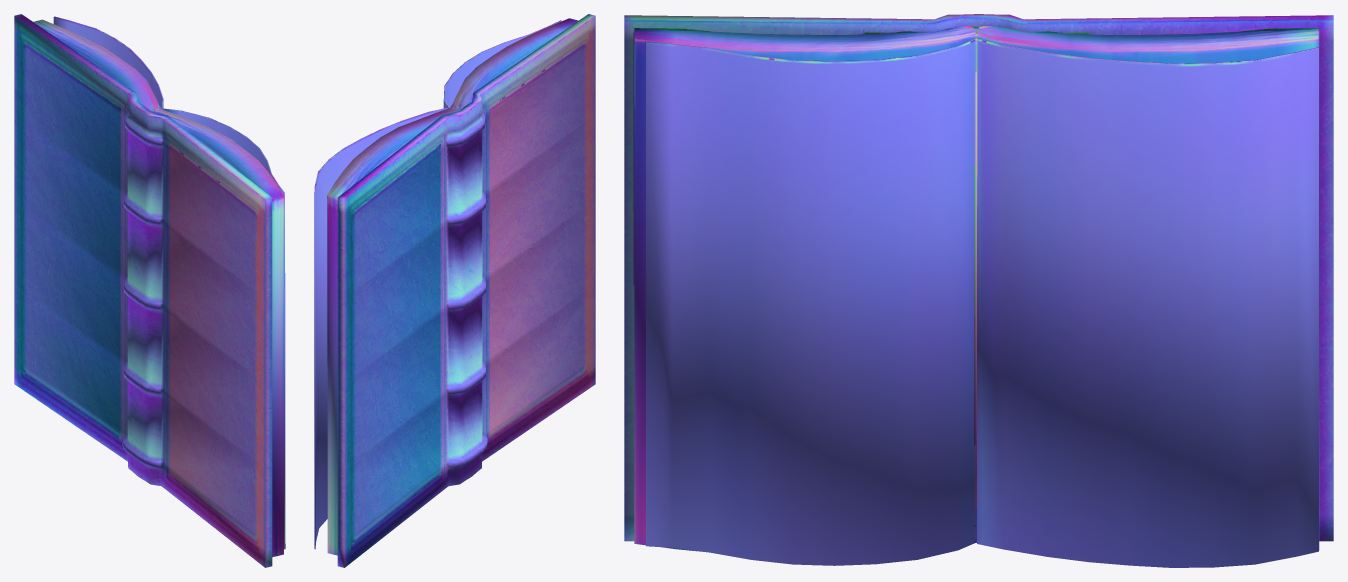
Rendered from OpenBook.fbx.
3 views of the same model, side by side, from view 1: azimuth 30°, elevation 25°; view 2: azimuth 150°, elevation 25°; view 3: azimuth 270°, elevation 25° (orthographic). The views are drawn at different scales.
Visible parts, largest first — view 1: BookOpenedCoverLowPoly; view 2: BookOpenedCoverLowPoly; view 3: BookOpenedCoverLowPoly.
Part boxes in pixels (x1,y1,x2,y2): BookOpenedCoverLowPoly: (14,14,285,567); BookOpenedCoverLowPoly: (314,14,595,567); BookOpenedCoverLowPoly: (624,14,1333,567).
Size of the model in its own units: 8.38 by 44.43 by 54.79.
